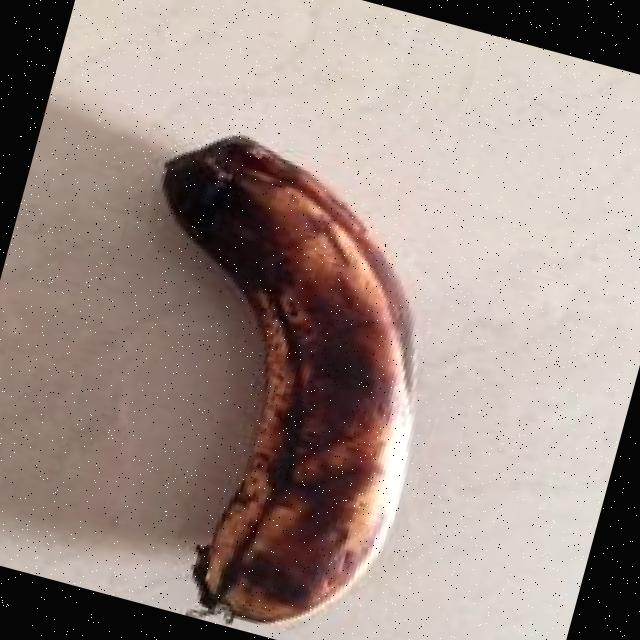Rotten: (46, 83, 517, 640)
